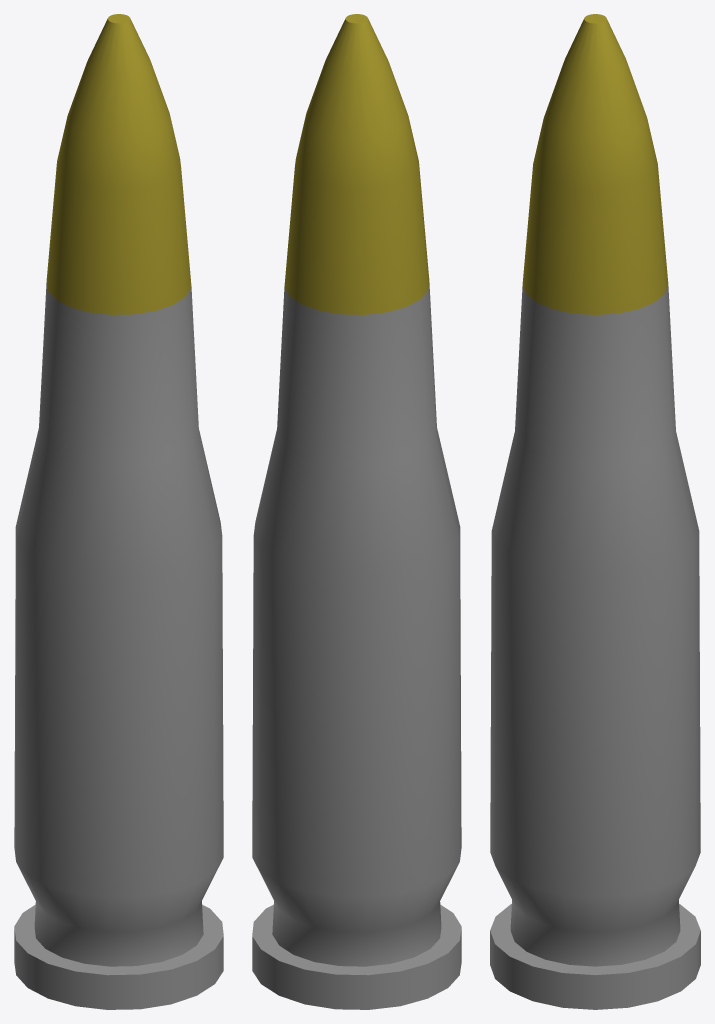
Rendered from bullet.fbx.
3 views of the same model, side by side, from view 1: azimuth 30°, elevation 25°; view 2: azimuth 150°, elevation 25°; view 3: azimuth 270°, elevation 25° (orthographic).
Parts seen in each view (by area): view 1: pCylinder1; view 2: pCylinder1; view 3: pCylinder1.
Boxes of the visible parts, bbox=[...] form: pCylinder1: bbox=[14, 14, 223, 1009]; pCylinder1: bbox=[252, 14, 461, 1009]; pCylinder1: bbox=[490, 14, 700, 1009].
Bounding box in the file's own units: 0.7058 × 3.5 × 0.7058.
